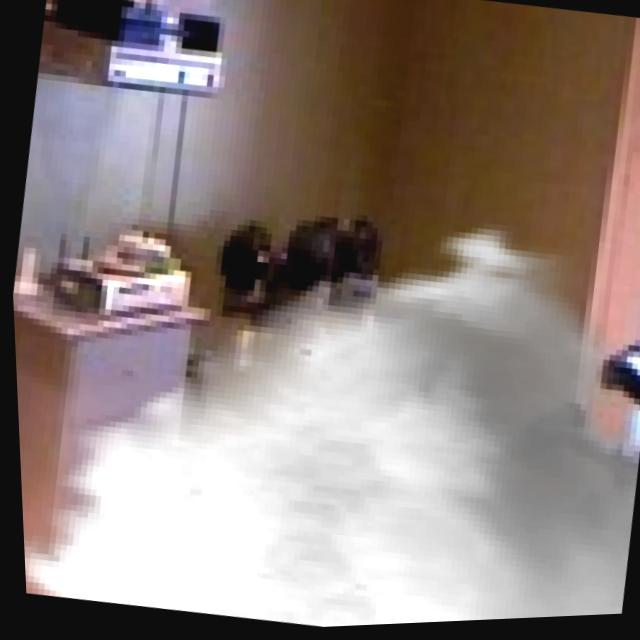smoke: (6, 138, 640, 640)
